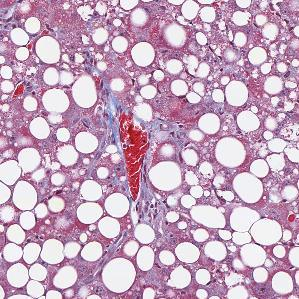fibrosis: (126, 188, 171, 230), (152, 115, 198, 150)
